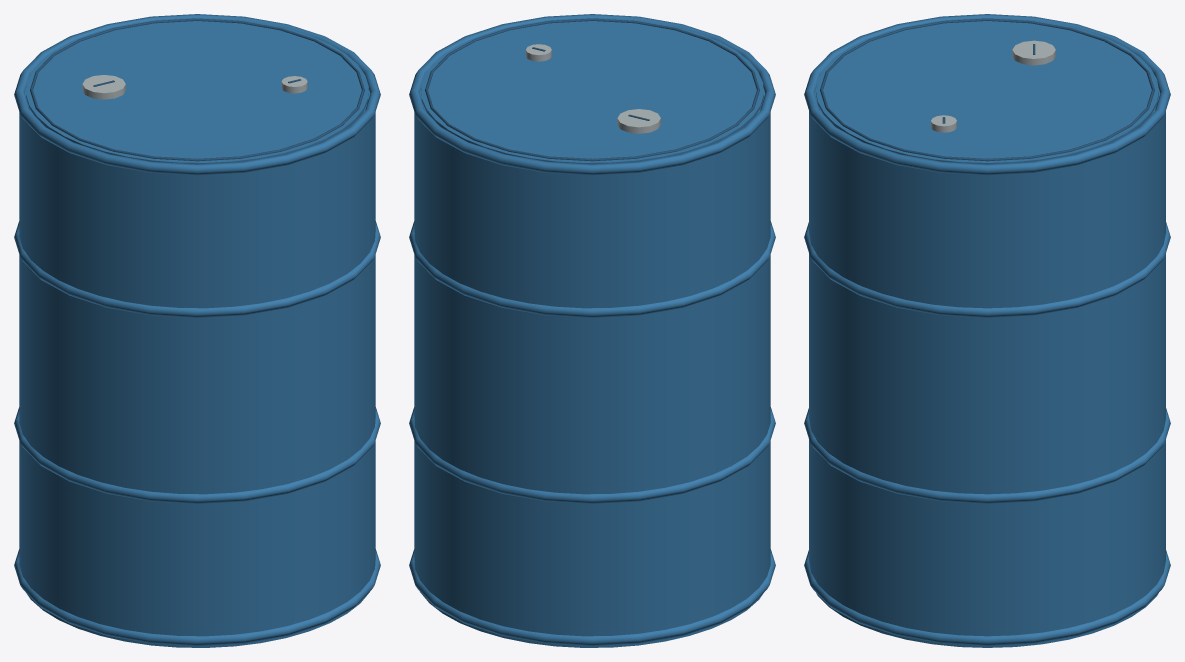
File: barrel_metal.glb
3 renders of one model, left to right at view 1: azimuth 30°, elevation 25°; view 2: azimuth 150°, elevation 25°; view 3: azimuth 270°, elevation 25°, orthographic.
Visible parts, largest first — view 1: Closed steel drum body, Inset drum lid, Rolled drum rib.003, Rolled drum rib, Rolled drum rib.001, Rolled drum rib.002, Lid sealing seam, Circular sealed bung; view 2: Closed steel drum body, Inset drum lid, Rolled drum rib.003, Rolled drum rib, Rolled drum rib.001, Rolled drum rib.002, Lid sealing seam, Circular sealed bung; view 3: Closed steel drum body, Inset drum lid, Rolled drum rib.003, Rolled drum rib, Rolled drum rib.001, Rolled drum rib.002, Lid sealing seam, Circular sealed bung.
Part boxes in pixels (x1,y1,x2,y2): Closed steel drum body: (19,87,375,647); Inset drum lid: (26,18,368,164); Rolled drum rib.003: (14,14,380,175); Rolled drum rib: (14,549,380,645); Rolled drum rib.001: (14,407,380,503); Rolled drum rib.002: (14,221,380,317); Lid sealing seam: (30,18,364,161); Circular sealed bung: (82,75,125,99); Closed steel drum body: (414,87,770,647); Inset drum lid: (421,18,763,164); Rolled drum rib.003: (409,14,775,175); Rolled drum rib: (409,549,775,645); Rolled drum rib.001: (409,407,775,503); Rolled drum rib.002: (409,221,775,317); Lid sealing seam: (425,18,759,161); Circular sealed bung: (617,109,660,133); Closed steel drum body: (809,88,1165,647); Inset drum lid: (816,18,1158,164); Rolled drum rib.003: (804,14,1170,175); Rolled drum rib: (804,550,1170,645); Rolled drum rib.001: (804,408,1170,503); Rolled drum rib.002: (804,222,1170,317); Lid sealing seam: (820,18,1154,161); Circular sealed bung: (1012,40,1055,65).
Size of the model in its own units: 0.59 by 0.8684 by 0.59.
